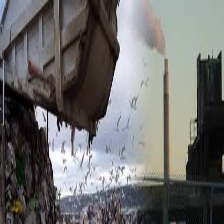smoke: (125, 2, 171, 57)
